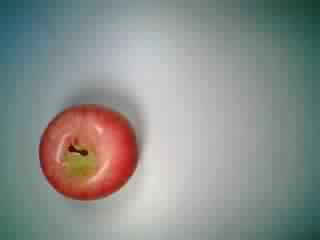apple: (35, 99, 142, 203)
